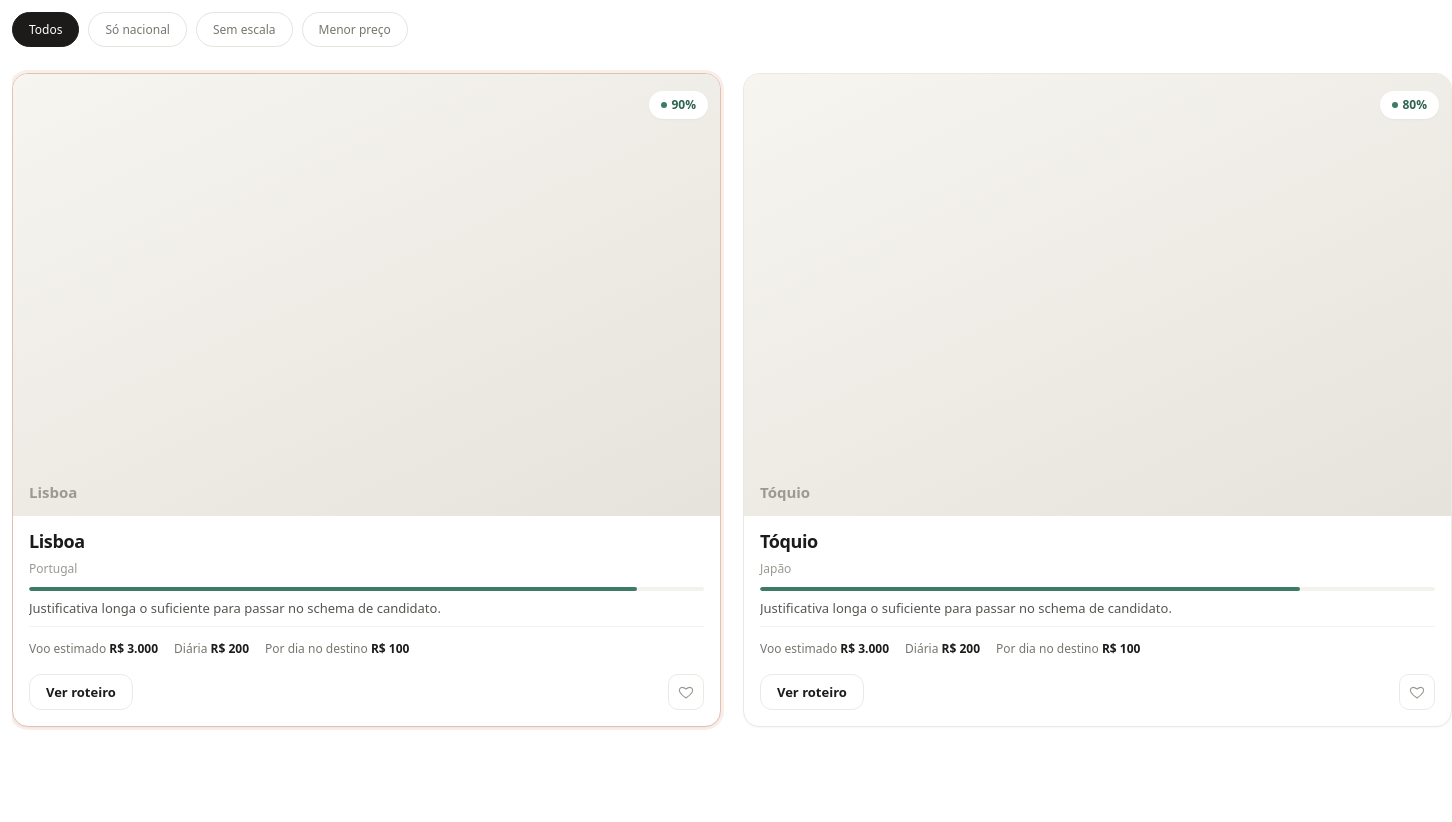
Test: DestinationResults › avisa quando o filtro nacional não deixa nada
Click the button "Só nacional". click: (138, 30)
box: [88, 12, 187, 47]
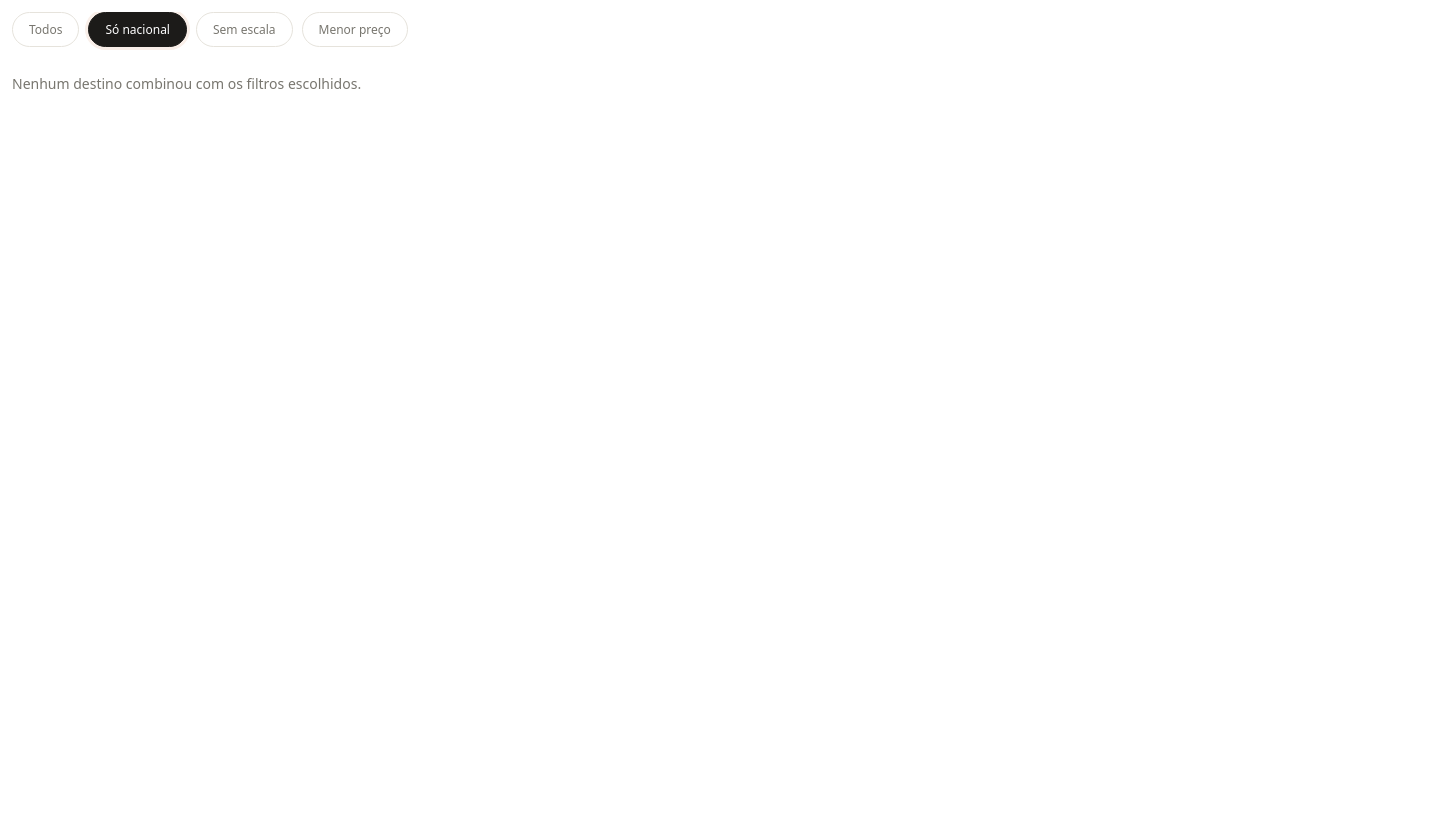
Check: the message reads "Nenhum destino combinou com os filtros escolhidos.", box [12, 74, 361, 93]
